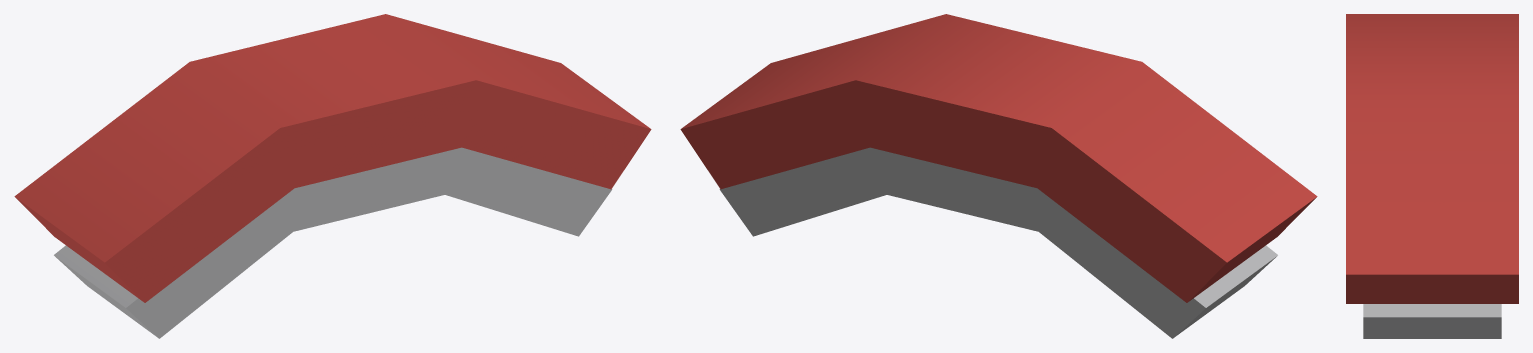
The model's file is drum_shoe_lod2.glb.
3 renders of one model, left to right at view 1: azimuth 30°, elevation 25°; view 2: azimuth 150°, elevation 25°; view 3: azimuth 270°, elevation 25°, orthographic. The views are drawn at different scales.
Visible parts, largest first — view 1: drum_shoe_lod2; view 2: drum_shoe_lod2; view 3: drum_shoe_lod2.
Part boxes in pixels (x1,y1,x2,y2): drum_shoe_lod2: (14,14,651,338); drum_shoe_lod2: (680,14,1317,338); drum_shoe_lod2: (1346,14,1518,338).
Size of the model in its own units: 0.0872 by 0.029 by 0.025.
